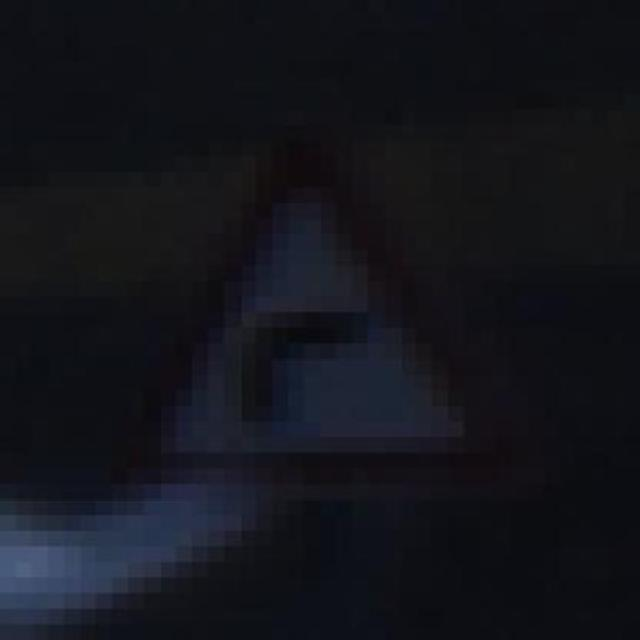Dangerous Rright Curve Ahead: (111, 124, 528, 516)
